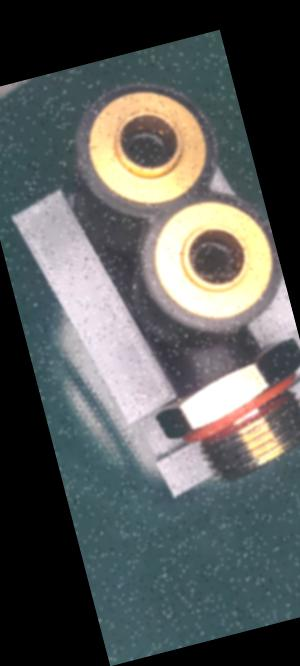off-centered: (182, 227, 244, 288)
white mark: (206, 356, 227, 372), (226, 354, 237, 366)
